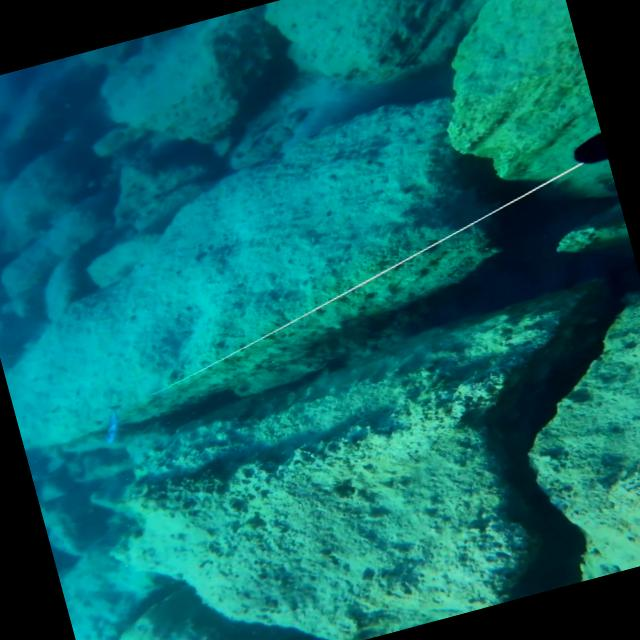Balon Baligi: (95, 403, 129, 445)
